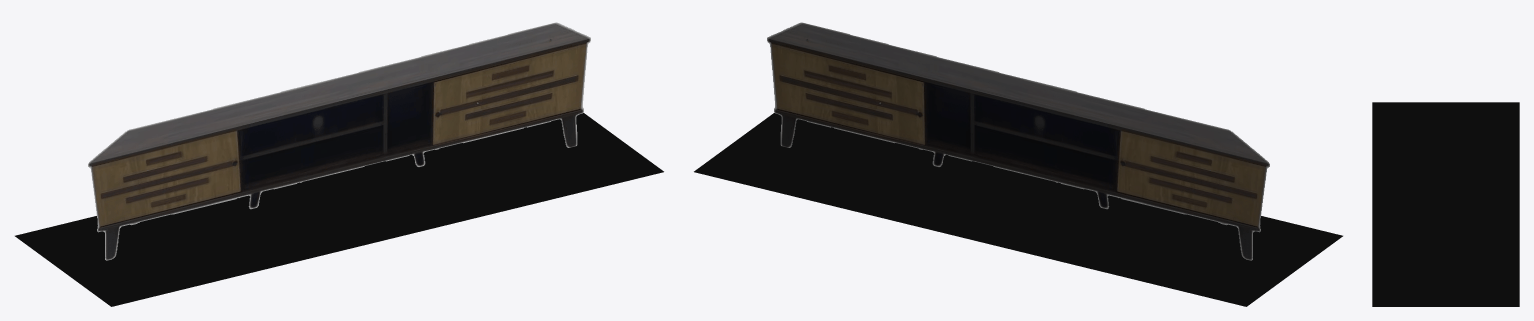
The model's file is arm-904f1831a3.glb.
The picture shows the model from 3 angles, left to right: view 1: azimuth 30°, elevation 25°; view 2: azimuth 150°, elevation 25°; view 3: azimuth 270°, elevation 25°; orthographic projection. The views are drawn at different scales.
Size of the model in its own units: 1.98 by 0.4419 by 0.602.
Materials: 2 (2 with a texture image).
